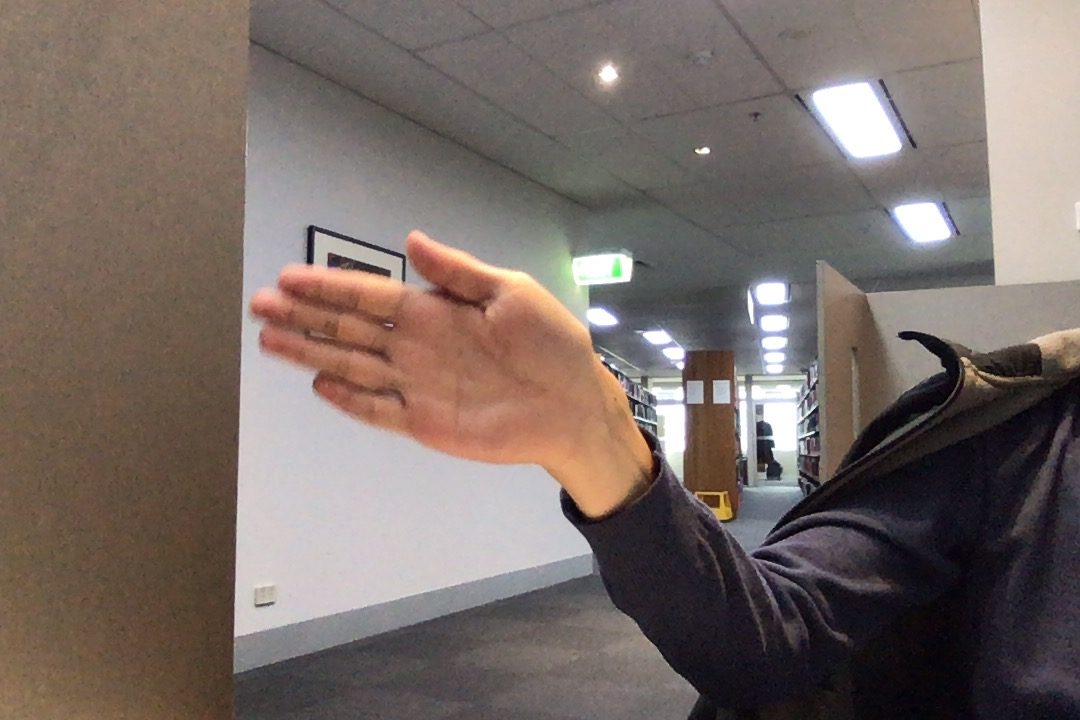palmhand: (242, 223, 603, 475)
